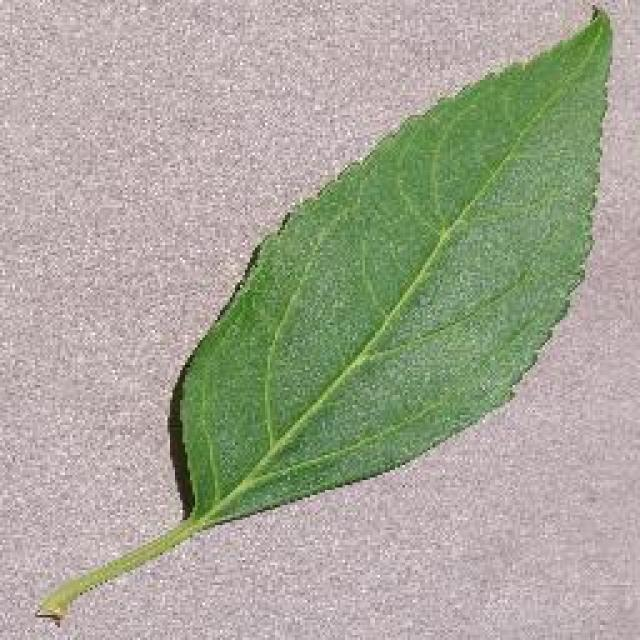Cherry___healthy: (20, 8, 622, 638)
